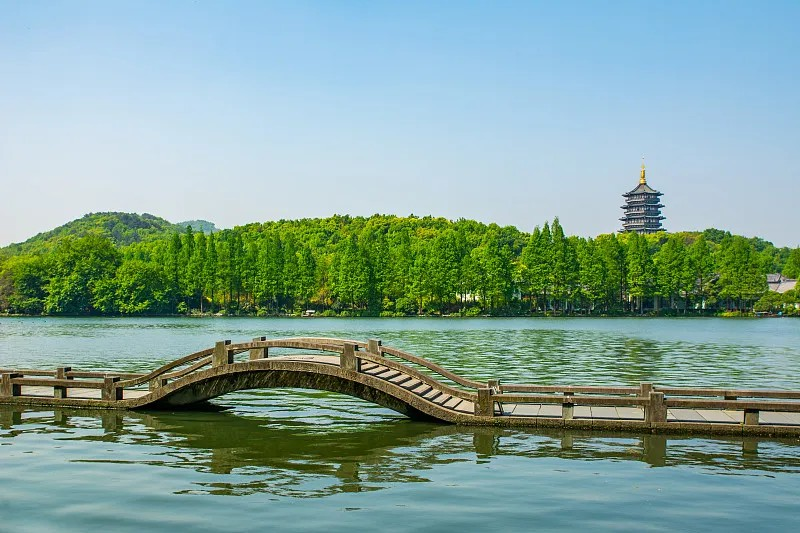Leifeng: (617, 153, 668, 234)
